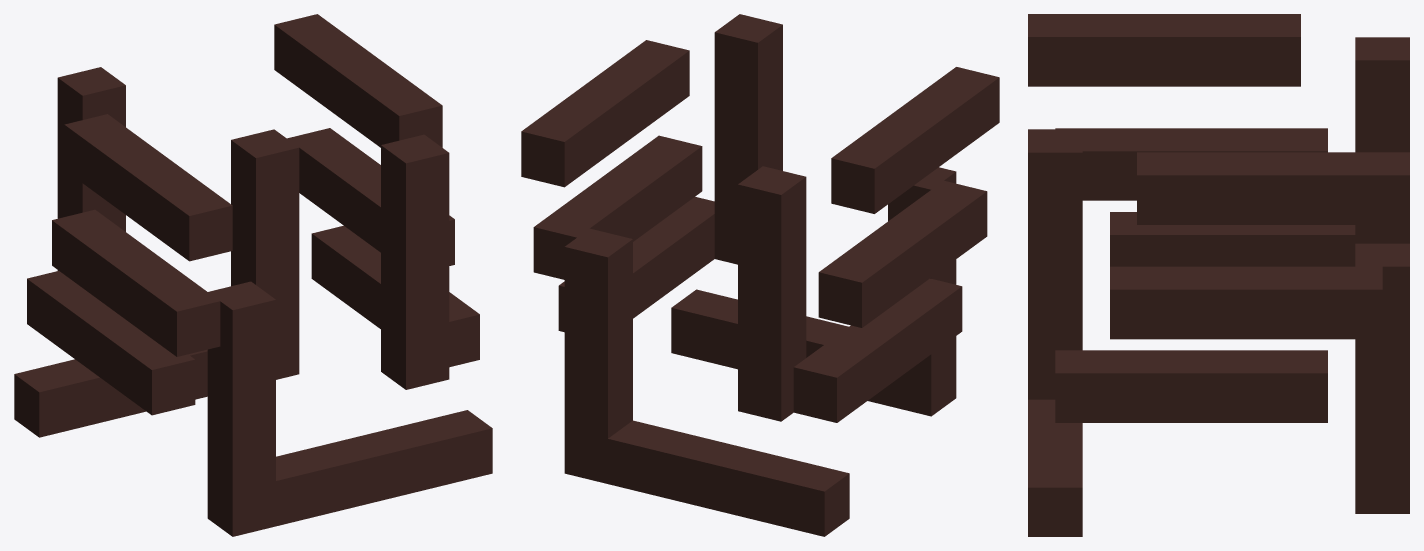
Rendered from spawner_box.fbx.
3 views of the same model, side by side, from view 1: azimuth 30°, elevation 25°; view 2: azimuth 150°, elevation 25°; view 3: azimuth 270°, elevation 25° (orthographic). The views are drawn at different scales.
Visible parts, largest first — view 1: spawner_cube; view 2: spawner_cube; view 3: spawner_cube.
Boxes of the visible parts, box(x1,y1,x2,y2) form: spawner_cube: box(14, 14, 492, 536); spawner_cube: box(521, 14, 999, 536); spawner_cube: box(1028, 14, 1409, 536).
Size of the model in its own units: 70 by 73.11 by 70.
